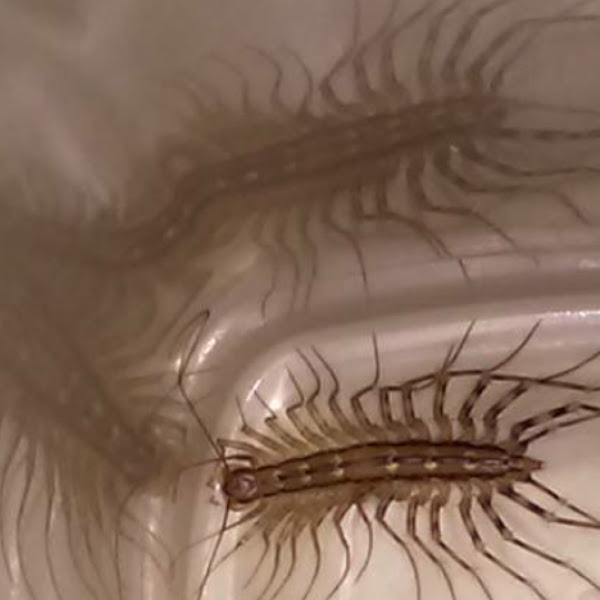centipede: (117, 311, 600, 600)
